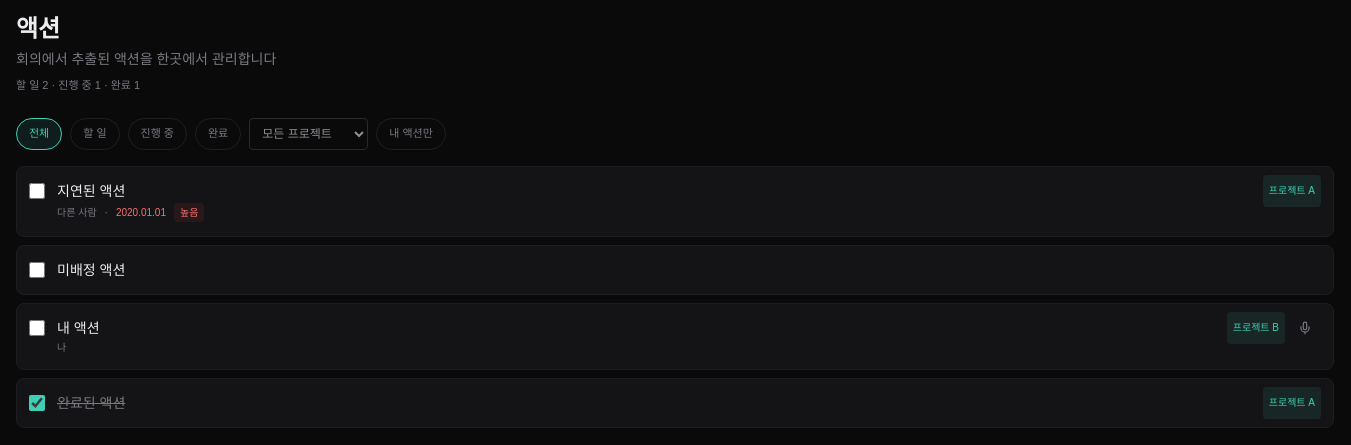
ActionBoard › 할 일 필터를 누르면 완료·진행 중 행이 사라진다
Click the tab with test id "action-status-filter-todo" at (95, 134), box x1=70 y1=118 x2=120 y2=150
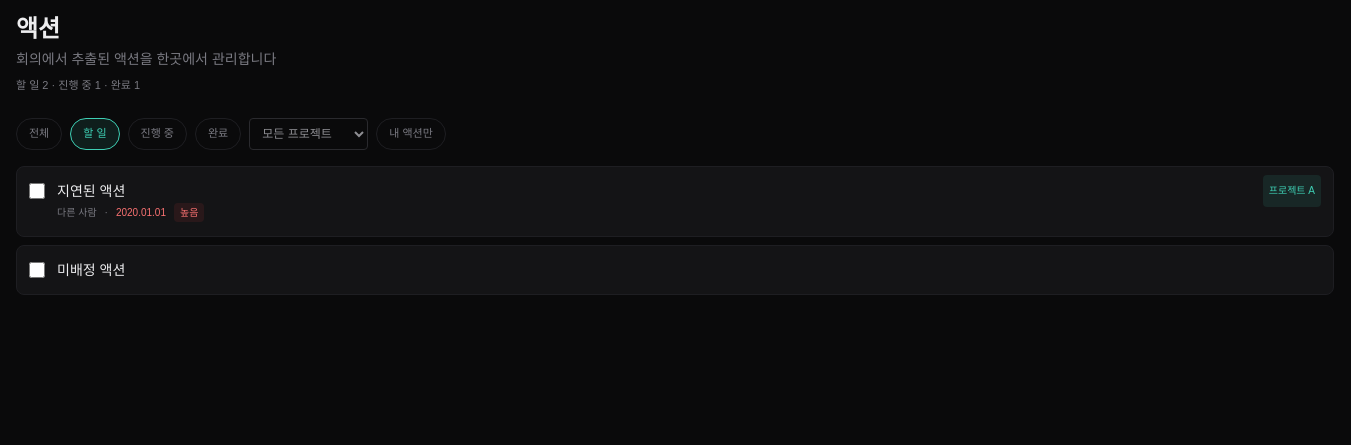
expect the text "완료된 액션" is gone: met
